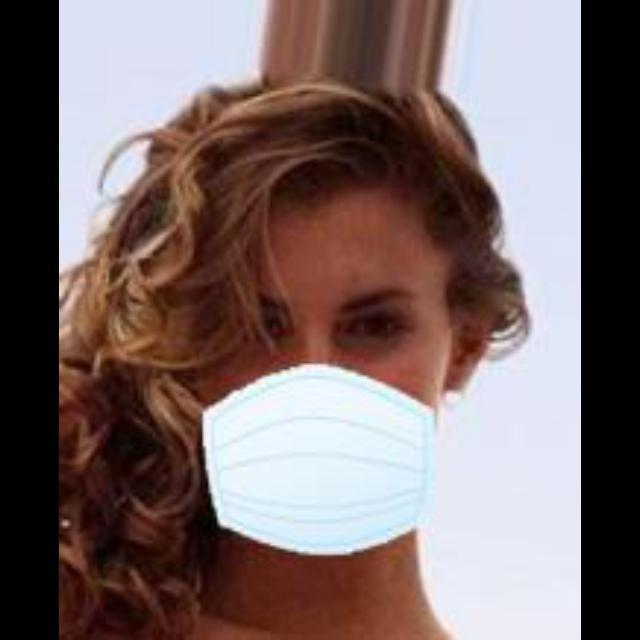suspicion: (102, 161, 470, 557)
